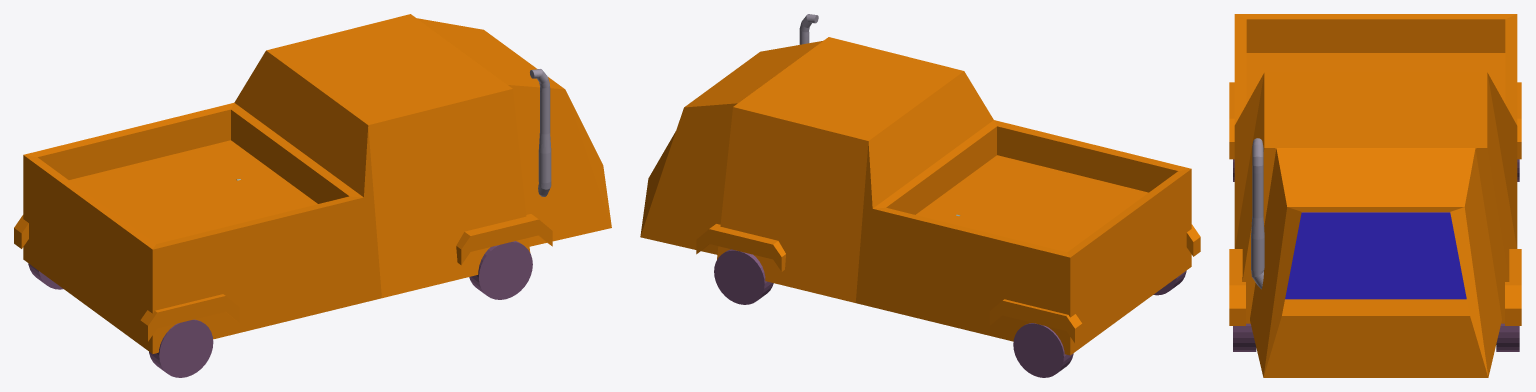
File: testTruck.glb
3 renders of one model, left to right at view 1: azimuth 30°, elevation 25°; view 2: azimuth 150°, elevation 25°; view 3: azimuth 270°, elevation 25°, orthographic. The views are drawn at different scales.
Visible parts, largest first — view 1: Cube, Cube.001, Cube.003; view 2: Cube, Cube.001; view 3: Cube, Cube.002, Cube.003, Cube.001.
Boxes of the visible parts, <box> form: Cube: <box>14,14,611,353</box>; Cube.001: <box>28,241,532,377</box>; Cube.003: <box>530,69,551,196</box>; Cube: <box>640,37,1200,355</box>; Cube.001: <box>714,249,1186,377</box>; Cube: <box>1229,14,1521,377</box>; Cube.002: <box>1285,212,1466,299</box>; Cube.003: <box>1251,138,1264,289</box>; Cube.001: <box>1233,159,1519,351</box>.
Bounding box in the file's own units: 3.9 × 1.64 × 1.89.
